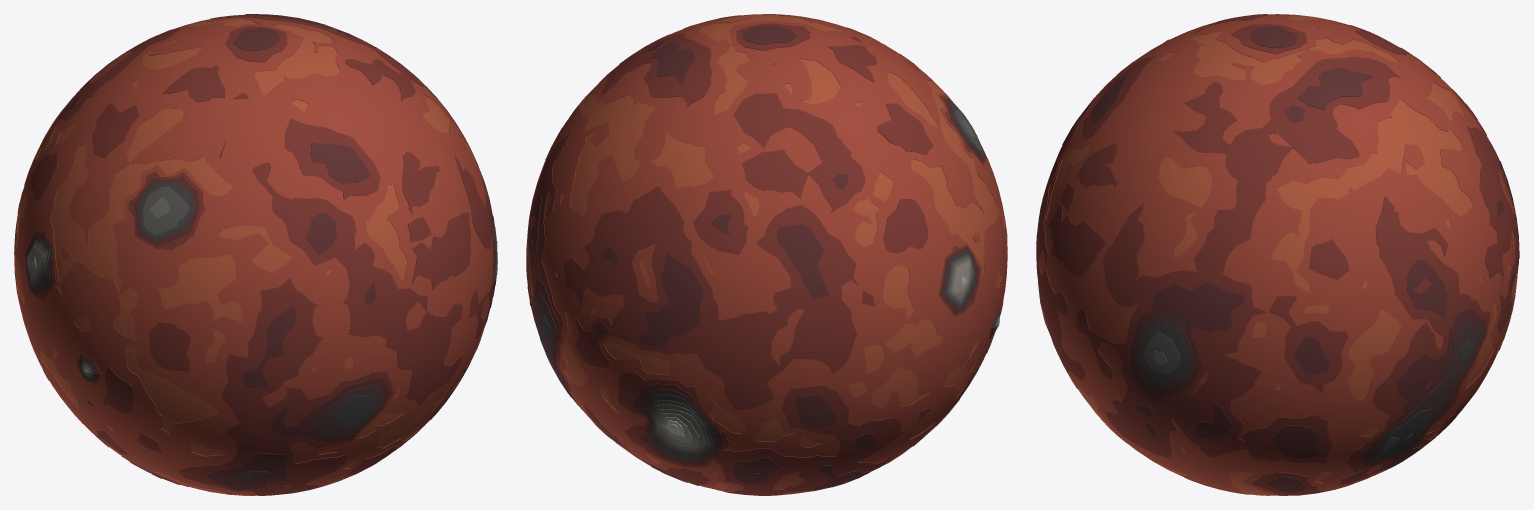
The model's file is New Planet.fbx.
3 renders of one model, left to right at view 1: azimuth 30°, elevation 25°; view 2: azimuth 150°, elevation 25°; view 3: azimuth 270°, elevation 25°, orthographic.
Parts seen in each view (by area): view 1: Planet; view 2: Planet; view 3: Planet.
Part boxes in pixels (x1,y1,x2,y2): Planet: (14,14,497,495); Planet: (526,14,1007,495); Planet: (1036,14,1519,495).
Bounding box in the file's own units: 2036 × 2037 × 2034.
